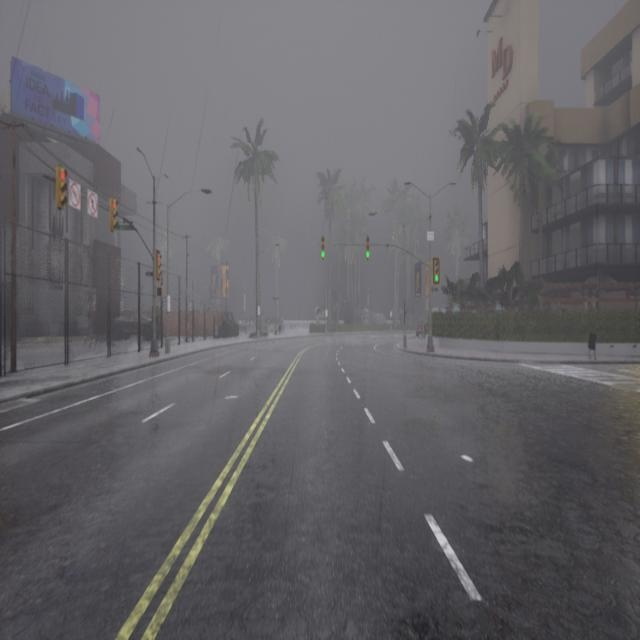bien_chi_dan: (56, 163, 68, 213), (110, 197, 119, 233), (156, 250, 163, 280), (433, 257, 440, 284), (320, 236, 326, 261), (365, 236, 370, 262), (59, 167, 67, 181), (112, 199, 118, 209), (156, 254, 162, 262), (366, 250, 370, 260), (321, 250, 325, 259), (434, 274, 438, 283)
